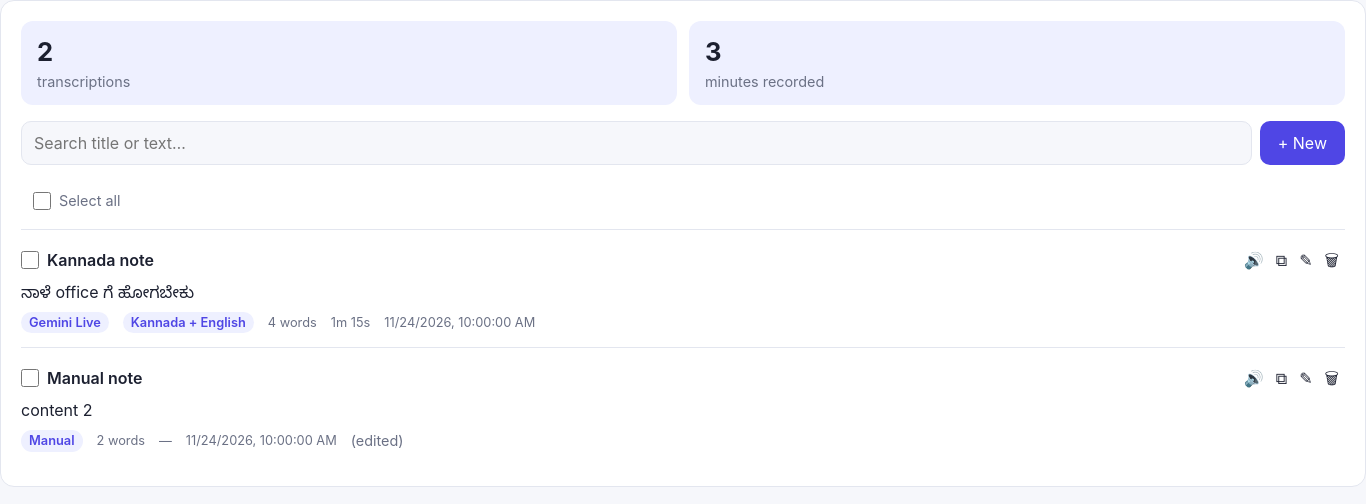
Test case: HistoryDashboard › searches after the user stops typing
The image size is (1366, 504).
Check: the button "Kannada note" is shown, box [47,248,1230,272]
Type "xyz" into the search field named "Search transcriptions". click: x=636, y=143
box: [21,121,1252,165]
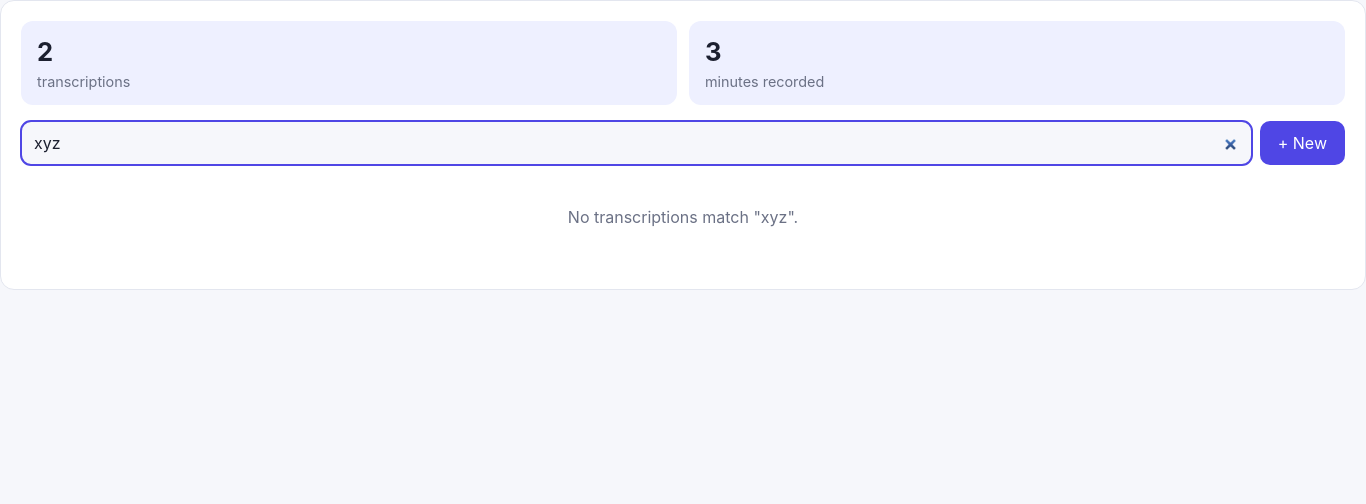
Check: the text "No transcriptions match \"xyz\"." is shown, box [568,207,798,227]
